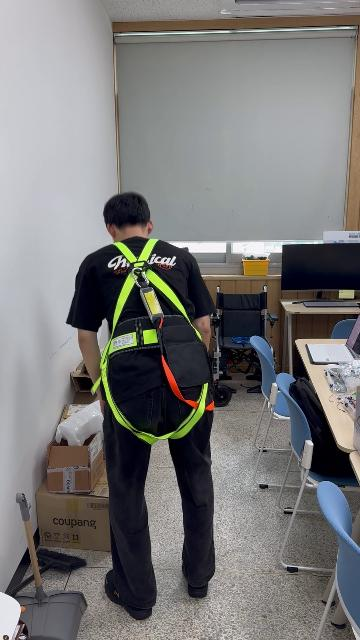helmet_not_worn: (103, 191, 153, 236)
shoe_worn: (105, 571, 153, 621), (182, 559, 211, 598)
vest_worn: (97, 242, 213, 440)
